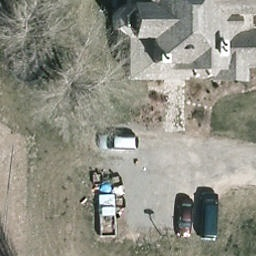car: (95, 133, 140, 151), (177, 195, 195, 240)
pickup: (98, 196, 117, 237)
van: (199, 191, 220, 242)
